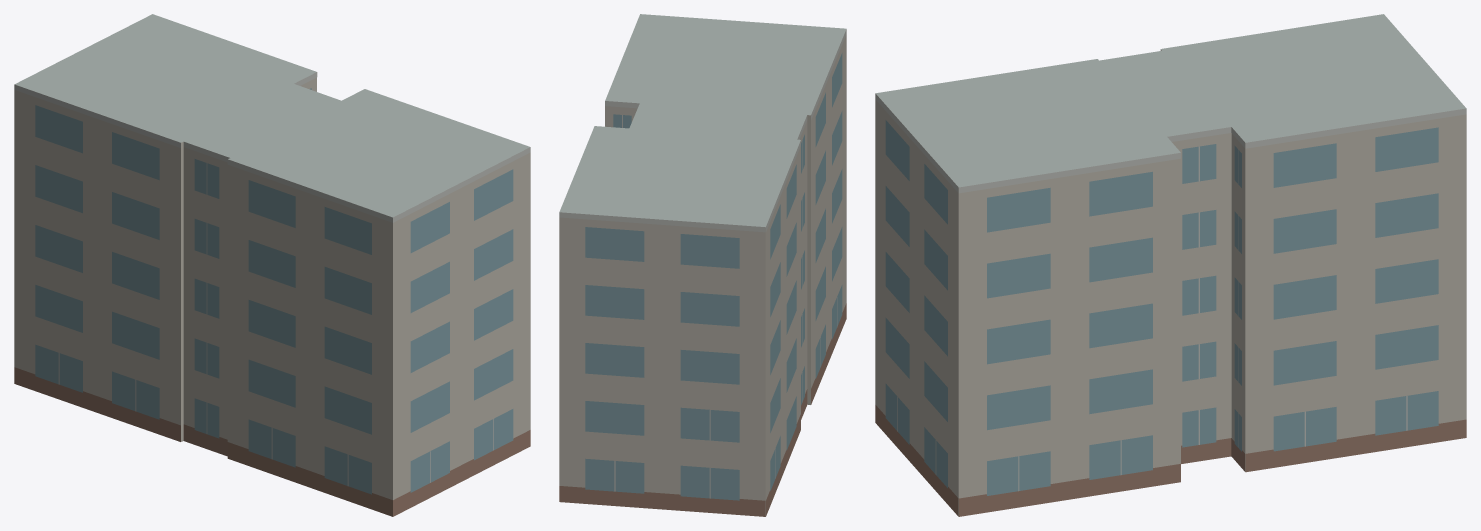
File: survey-upis-32945437.glb
3 renders of one model, left to right at view 1: azimuth 30°, elevation 25°; view 2: azimuth 150°, elevation 25°; view 3: azimuth 270°, elevation 25°, orthographic. The views are drawn at different scales.
Visible parts, largest first — view 1: survey-upis-32945437.tmp; view 2: survey-upis-32945437.tmp; view 3: survey-upis-32945437.tmp.
Part boxes in pixels (x1,y1,x2,y2): survey-upis-32945437.tmp: (14, 14, 530, 516); survey-upis-32945437.tmp: (559, 14, 846, 516); survey-upis-32945437.tmp: (875, 14, 1466, 516).
Bounding box in the file's own units: 15.37 × 13.6 × 22.13.
